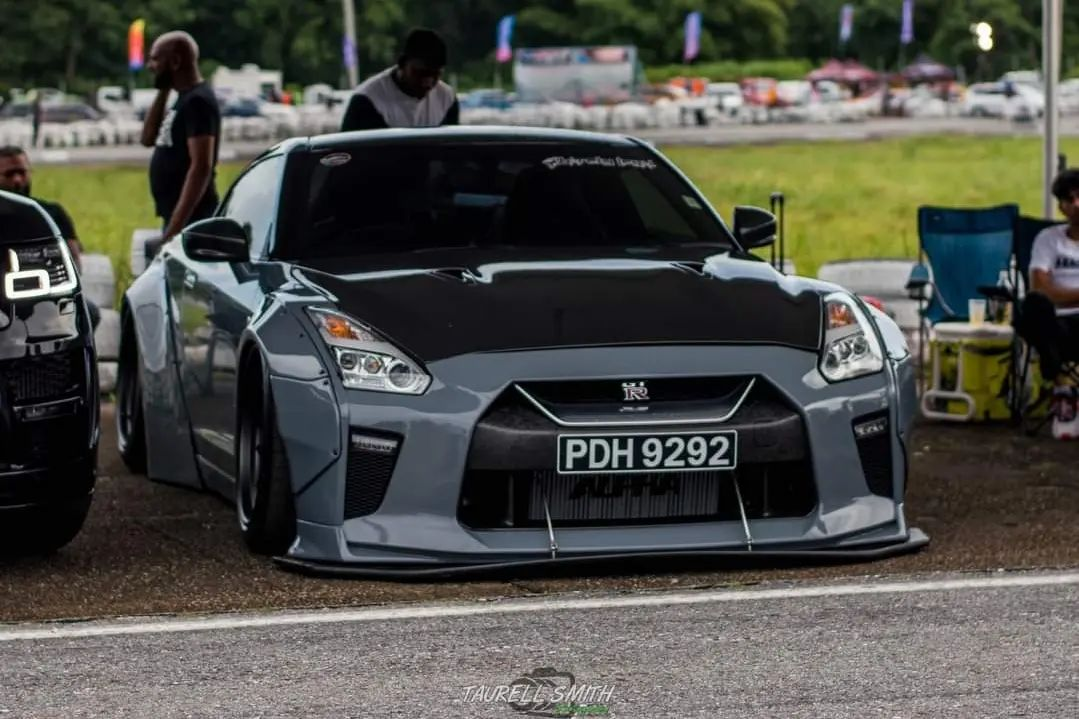License-Plate: (558, 436, 734, 472)
